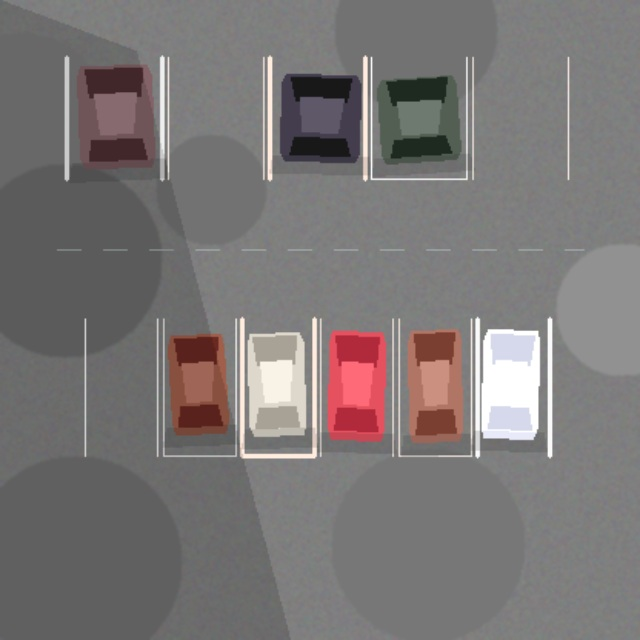space-empty: (472, 57, 568, 178), (168, 57, 263, 178), (85, 318, 157, 455)
space-occupied: (66, 57, 162, 178), (269, 57, 365, 178), (371, 57, 466, 178), (398, 318, 471, 455), (163, 318, 235, 455), (242, 318, 314, 455), (320, 318, 392, 455), (477, 318, 549, 455)
